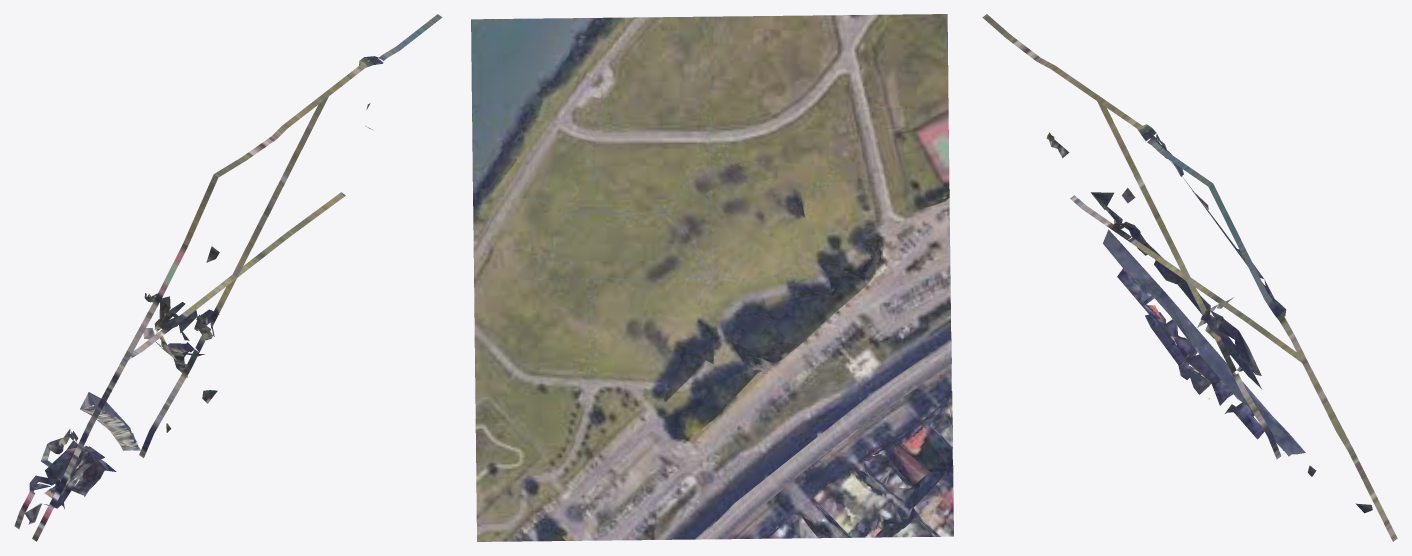
3 renders of one model, left to right at view 1: azimuth 30°, elevation 25°; view 2: azimuth 150°, elevation 25°; view 3: azimuth 270°, elevation 25°, orthographic. The views are drawn at different scales.
Bounding box in the file's own units: 315 × 278 × 256.
1 material, 1 textured.
